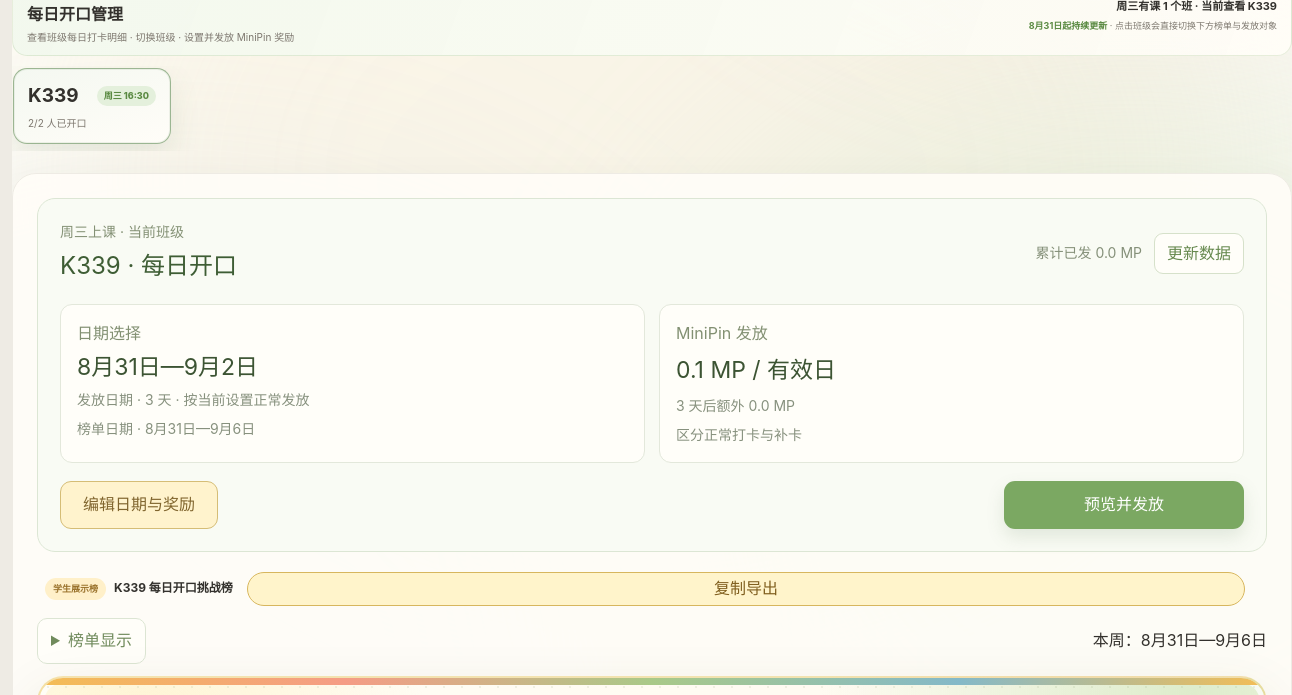
Test case: SpeakingChallengeApp › keeps issued-date handling hidden when the class has never settled any selected date
The width and height of the screenshot is (1292, 695).
Click the button "编辑日期与奖励". click: (139, 505)
box: left=60, top=481, right=218, bottom=529
(page scrolled)
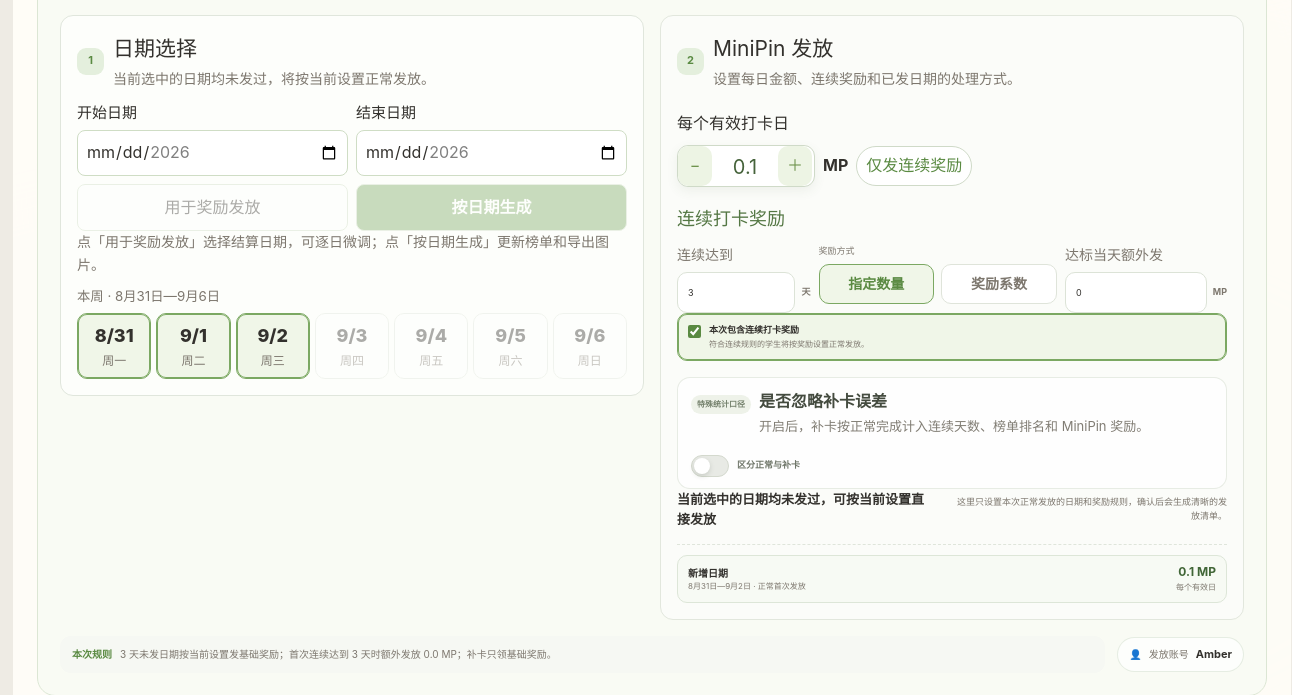
Check: the label with class "speaking-challenge__streak-scope" shows "按奖励设置正常发放", box left=709, top=339, right=869, bottom=349
